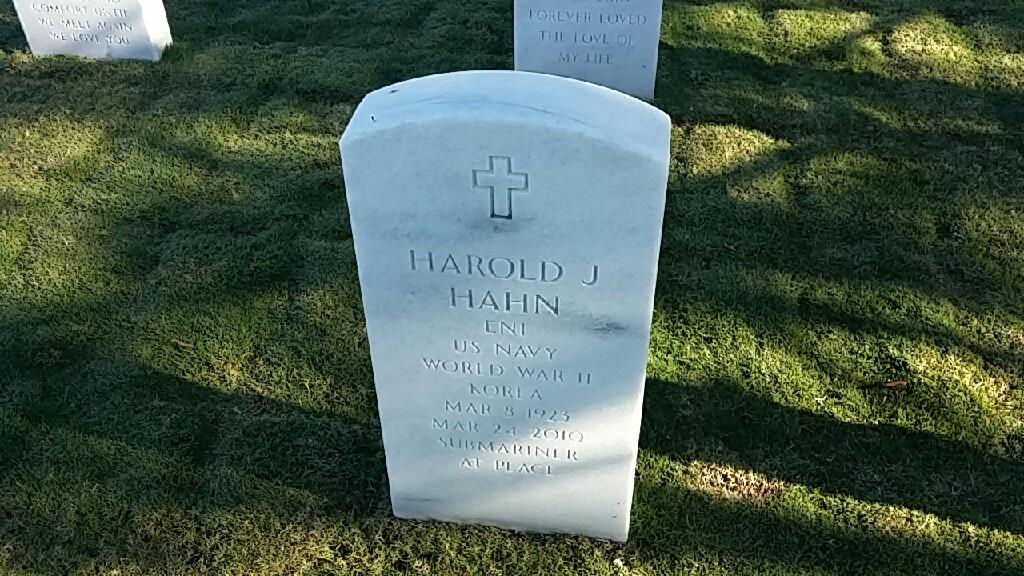upright: (327, 56, 684, 545)
